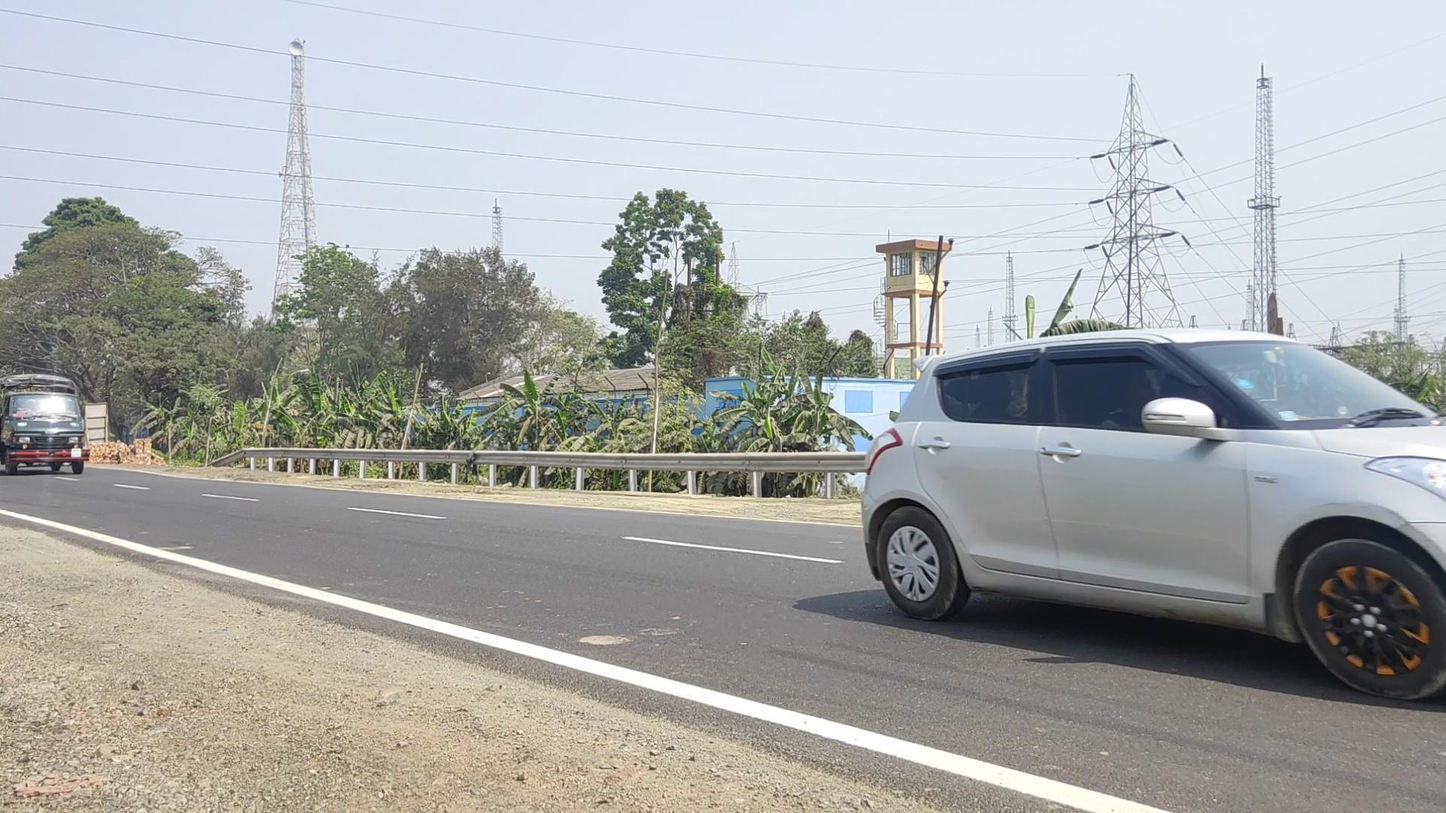car: (861, 328, 1446, 701)
truck: (1, 374, 90, 475)
